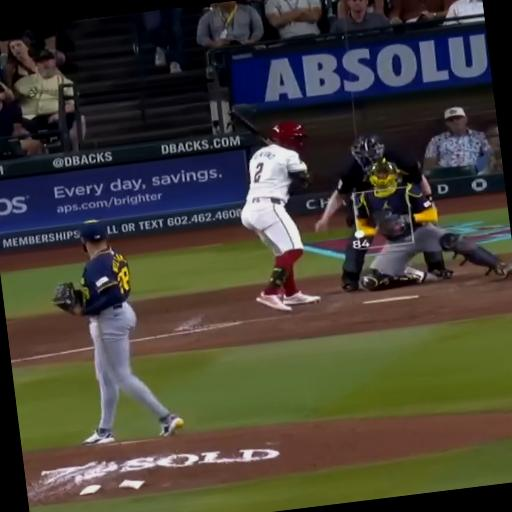bat: (229, 105, 272, 145)
